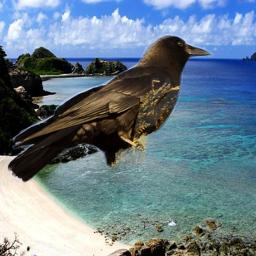Crow: (7, 30, 215, 189)
